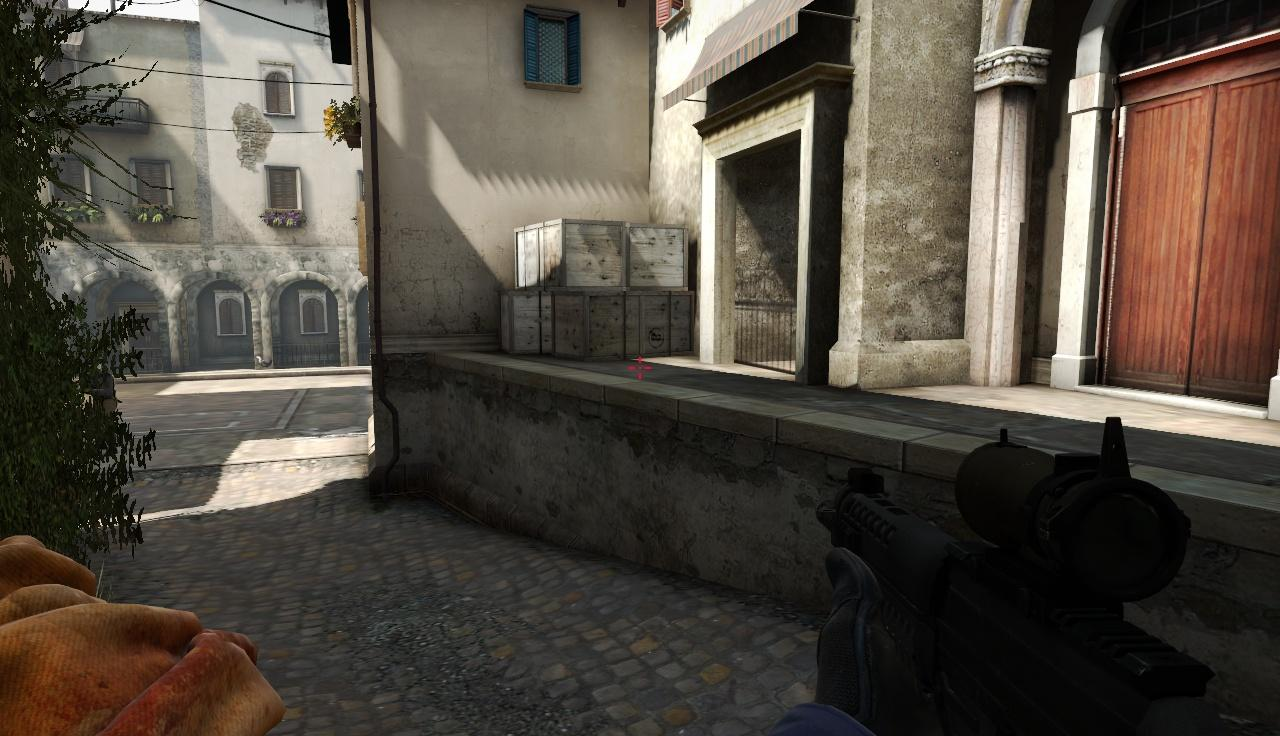rifle: (807, 418, 1280, 736)
